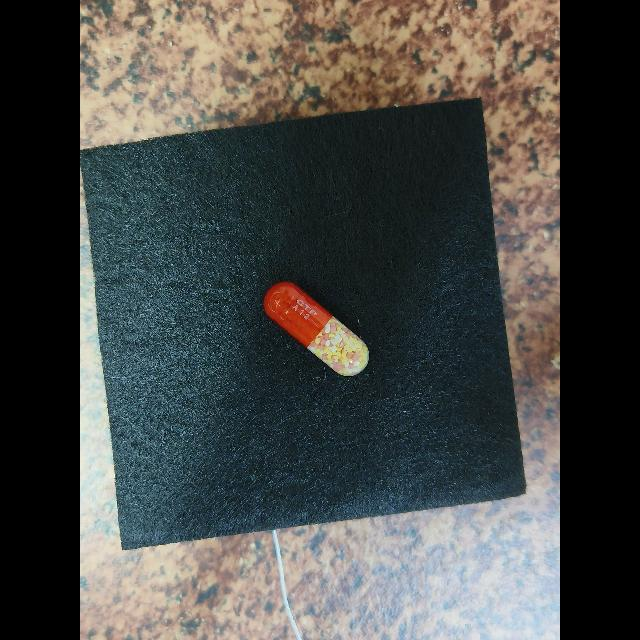Intact Capsule: (263, 282, 369, 376)
